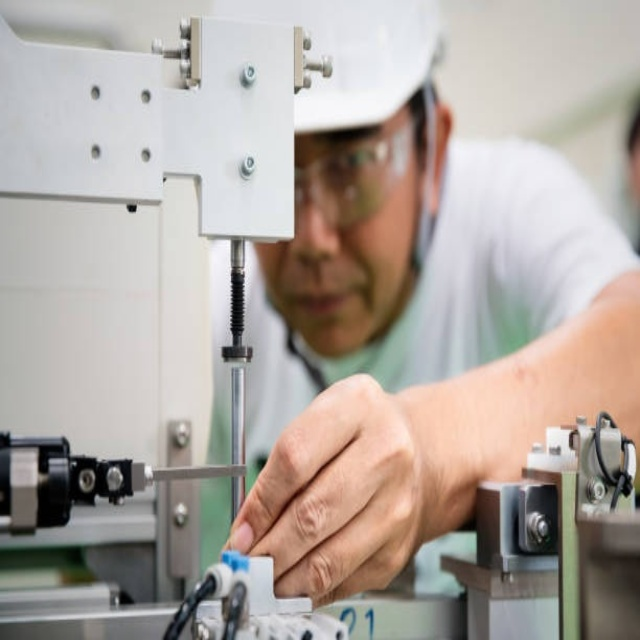Gafas: (292, 111, 419, 226)
Sin_guantes: (223, 370, 425, 605)
Sin_mascara: (280, 262, 367, 340)
